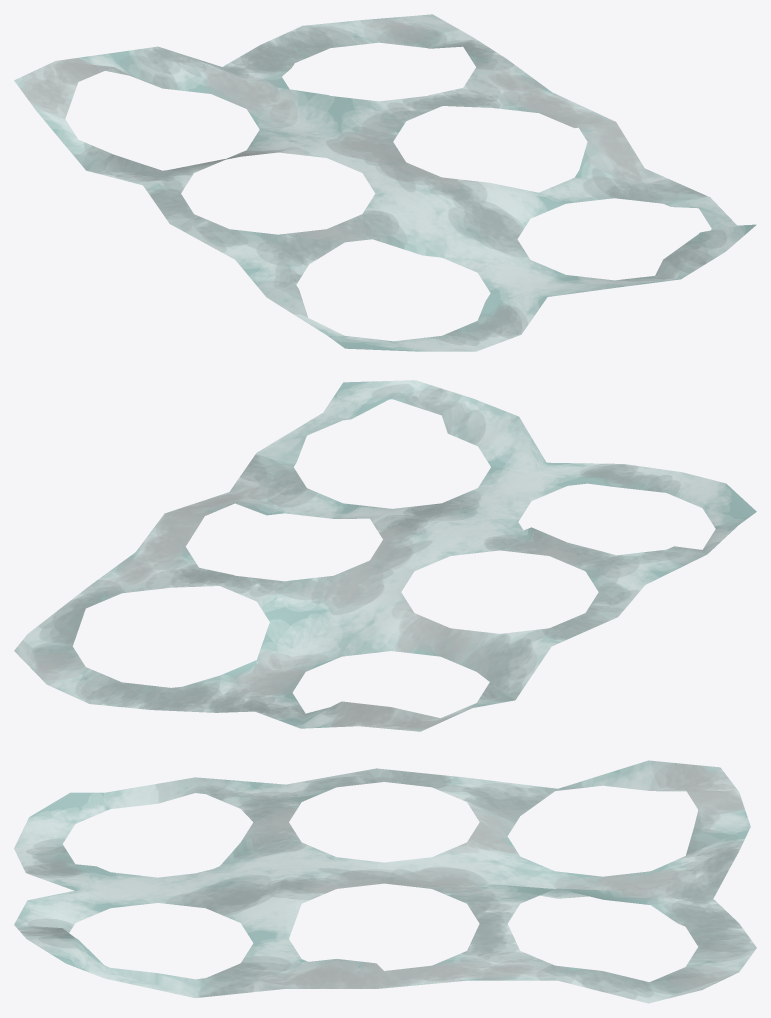
File: plastico_pivot.FBX
3 renders of one model, top to bottom at view 1: azimuth 30°, elevation 25°; view 2: azimuth 150°, elevation 25°; view 3: azimuth 270°, elevation 25°, orthographic. The views are drawn at different scales.
Parts seen in each view (by area): view 1: Plane001; view 2: Plane001; view 3: Plane001.
Part boxes in pixels (x1,y1,x2,y2): Plane001: (14,14,756,351); Plane001: (14,380,756,731); Plane001: (14,760,756,1003).
Bounding box in the file's own units: 1379 × 100 × 2017.
